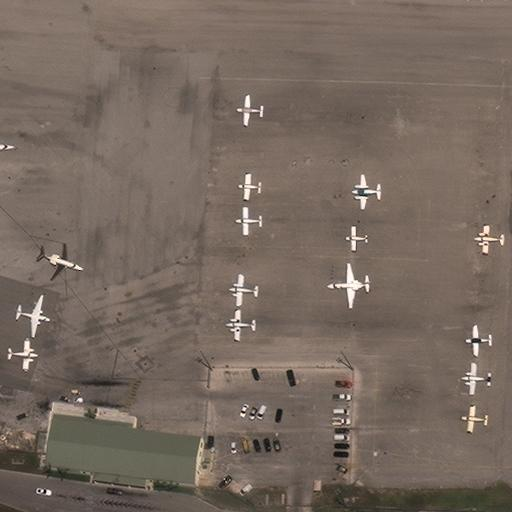Medium Civil Transport: (326, 262, 369, 308), (16, 295, 50, 338)
Small Civil Transport: (39, 243, 84, 280), (6, 339, 38, 372), (351, 174, 381, 209), (461, 362, 491, 395), (225, 310, 256, 340), (228, 274, 258, 305), (474, 224, 505, 254), (234, 206, 262, 235), (236, 95, 263, 125), (460, 405, 488, 432), (466, 326, 492, 355), (237, 173, 261, 200), (344, 225, 368, 251)
